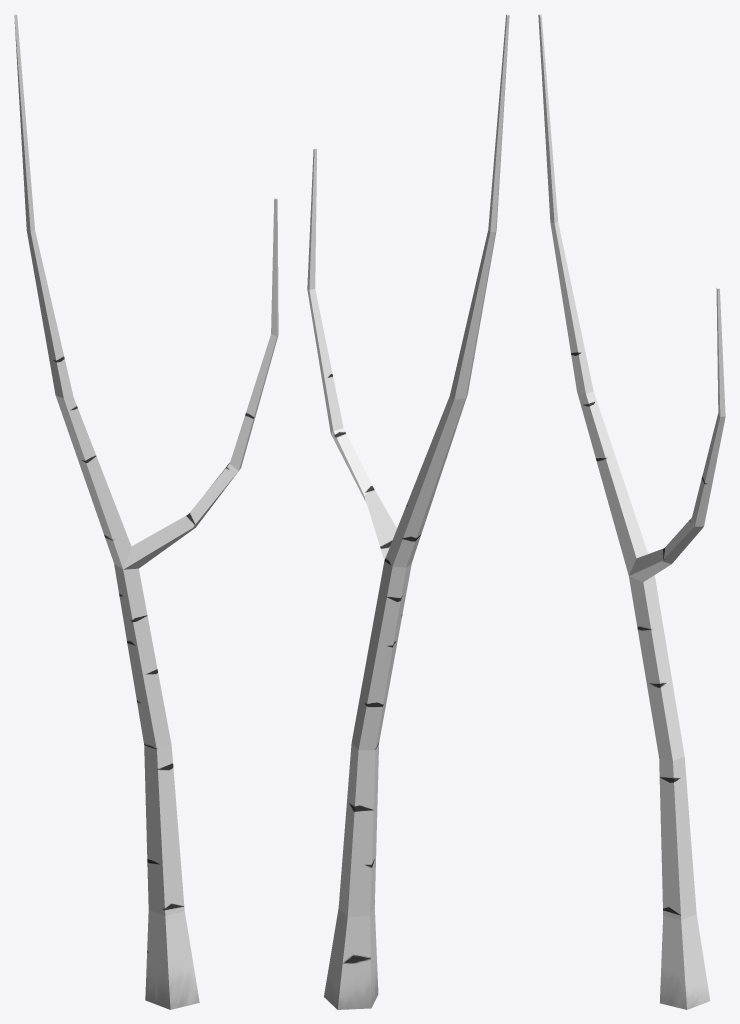
File: Birch_Tree_NoLeaves_m_02.fbx
3 views of the same model, side by side, from view 1: azimuth 30°, elevation 25°; view 2: azimuth 150°, elevation 25°; view 3: azimuth 330°, elevation 25° (orthographic). The views are drawn at different scales.
Visible parts, largest first — view 1: Birch_Tree_NoLeaves_m_02; view 2: Birch_Tree_NoLeaves_m_02; view 3: Birch_Tree_NoLeaves_m_02.
Boxes of the visible parts, x1,y1,x2,y2 form: Birch_Tree_NoLeaves_m_02: [14, 14, 278, 1009]; Birch_Tree_NoLeaves_m_02: [307, 14, 509, 1009]; Birch_Tree_NoLeaves_m_02: [538, 14, 725, 1009].
Bounding box in the file's own units: 221 × 926 × 79.28.
